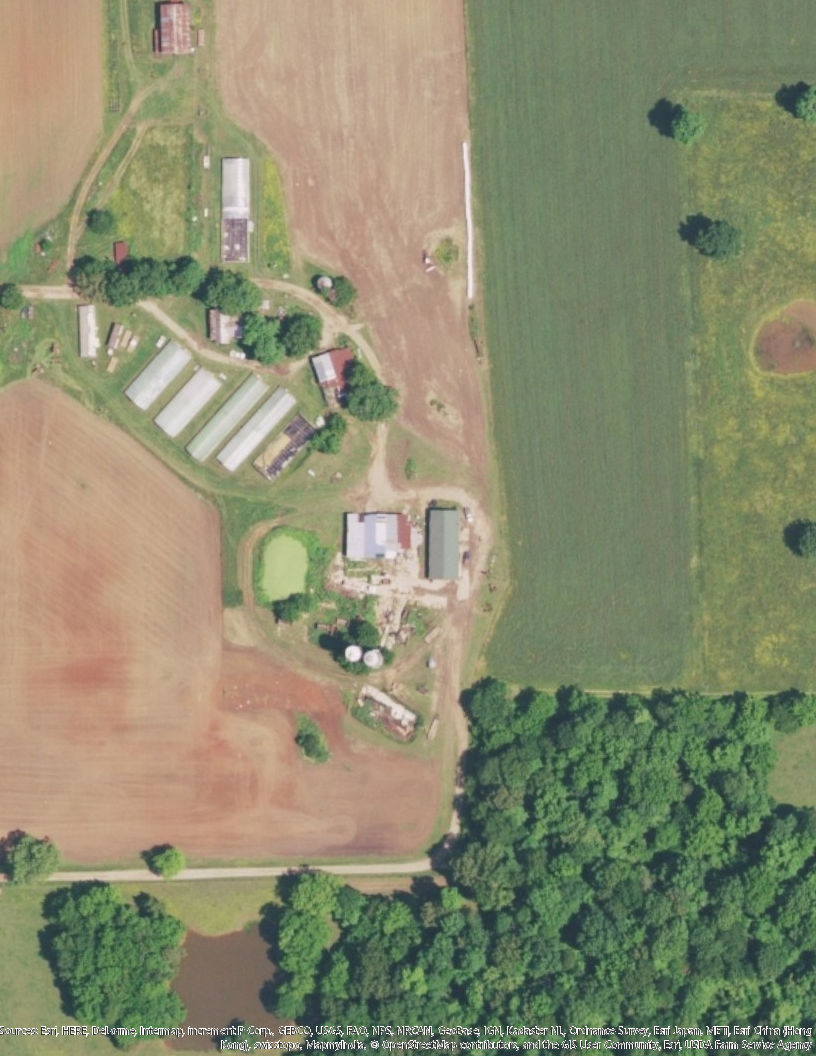cafo: (183, 370, 276, 465), (215, 386, 301, 474), (119, 335, 195, 414), (152, 364, 226, 440)
